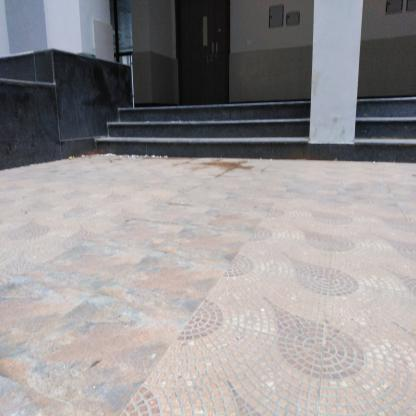stairs: (118, 99, 307, 165)
